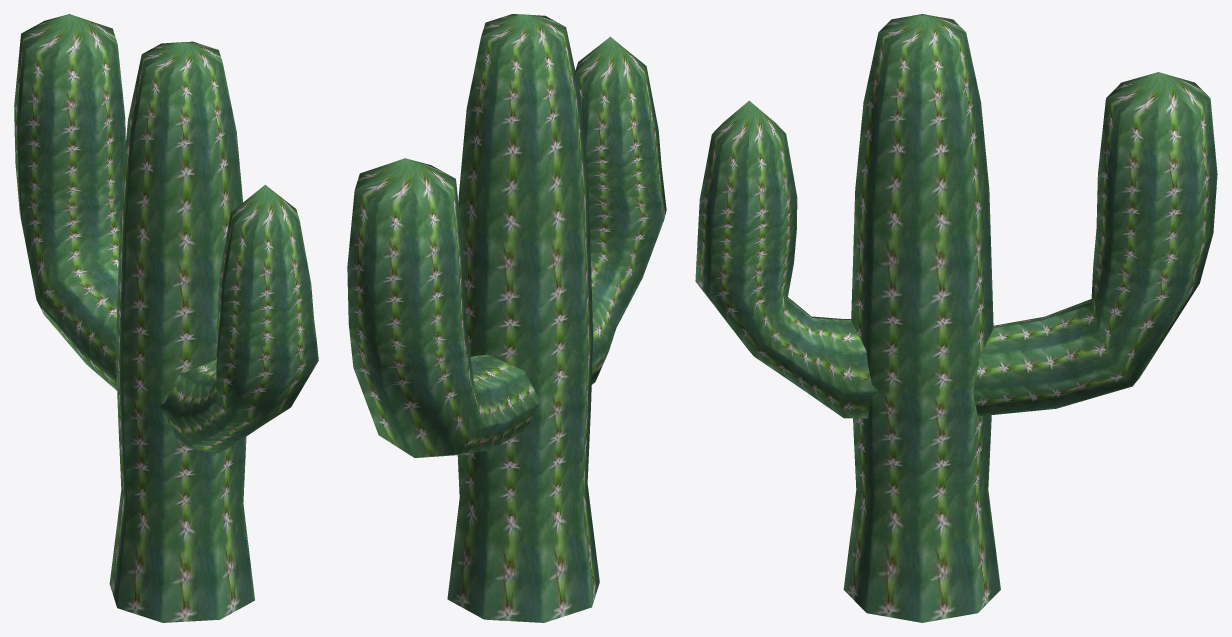
Rendered from cactus.glb.
The picture shows the model from 3 angles, left to right: view 1: azimuth 30°, elevation 25°; view 2: azimuth 150°, elevation 25°; view 3: azimuth 270°, elevation 25°; orthographic projection. The views are drawn at different scales.
Visible parts, largest first — view 1: canyon_cactus.jpg__; view 2: canyon_cactus.jpg__; view 3: canyon_cactus.jpg__.
Part boxes in pixels (x1=…): canyon_cactus.jpg__: x1=14, y1=14, x2=318, y2=622; canyon_cactus.jpg__: x1=347, y1=14, x2=666, y2=622; canyon_cactus.jpg__: x1=695, y1=14, x2=1217, y2=622.
Size of the model in its own units: 0.5085 by 2.05 by 1.69.
Materials: 1 (1 with a texture image).
